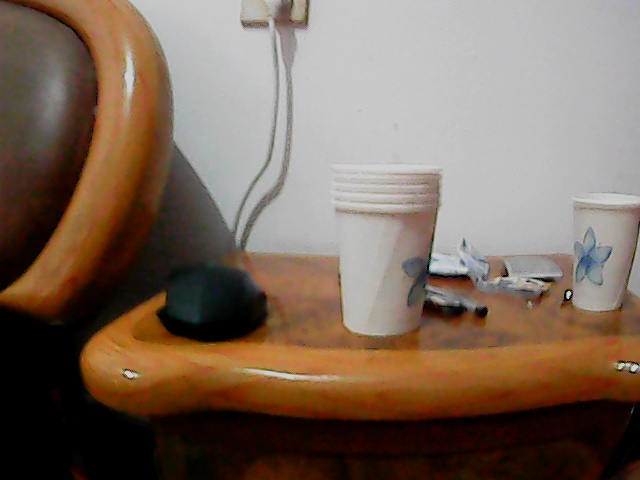cup: (328, 158, 440, 339)
mouse: (157, 259, 267, 339)
